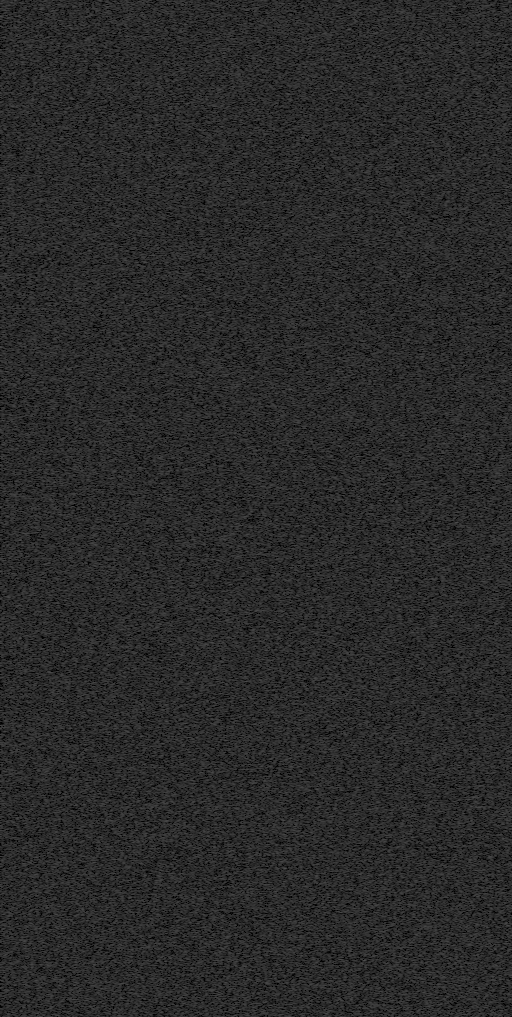wv_am: (329, 0, 335, 1016), (365, 0, 371, 403), (365, 672, 371, 977), (365, 404, 371, 670), (365, 978, 371, 1016)
wv_cw: (212, 0, 218, 1016)
wv_lsb: (204, 280, 209, 427), (96, 663, 101, 797), (204, 428, 209, 511), (204, 125, 209, 198), (204, 572, 209, 639), (204, 663, 209, 727), (204, 199, 209, 261), (204, 62, 209, 124), (206, 5, 211, 62), (204, 514, 209, 565), (206, 251, 211, 299), (206, 595, 211, 643), (96, 67, 101, 114), (206, 349, 211, 393), (206, 531, 211, 575), (206, 644, 211, 687), (205, 960, 209, 1013), (204, 759, 209, 800), (96, 585, 101, 624), (206, 791, 211, 829), (96, 625, 101, 662), (204, 803, 209, 840), (206, 214, 211, 250), (96, 5, 101, 40), (96, 127, 101, 159), (206, 936, 211, 968), (97, 167, 101, 206), (204, 728, 209, 758), (205, 848, 209, 884), (97, 207, 101, 243), (97, 826, 101, 861), (205, 902, 209, 935), (204, 37, 209, 61), (97, 798, 101, 825), (206, 502, 211, 523), (207, 77, 211, 102), (207, 310, 211, 334), (204, 939, 209, 957), (204, 5, 209, 23), (207, 412, 210, 440), (97, 933, 101, 954), (97, 877, 101, 897), (206, 396, 211, 411), (97, 48, 101, 66), (205, 262, 209, 279), (205, 646, 209, 662), (205, 885, 209, 901), (207, 830, 211, 846), (204, 24, 209, 36), (207, 441, 210, 460), (97, 918, 101, 932), (97, 320, 101, 334), (96, 115, 101, 126), (207, 335, 211, 348), (97, 480, 101, 493), (207, 130, 210, 147), (207, 63, 211, 75), (97, 864, 101, 876), (206, 300, 211, 309), (97, 403, 101, 414), (97, 999, 101, 1009), (97, 955, 101, 965), (207, 584, 211, 594), (206, 576, 211, 583), (97, 290, 100, 301), (97, 901, 101, 909), (206, 524, 211, 530), (97, 446, 101, 453), (97, 416, 101, 423), (207, 478, 210, 487), (207, 172, 210, 181), (207, 120, 210, 129), (207, 847, 210, 856), (207, 489, 211, 495), (207, 189, 210, 197), (97, 461, 100, 469), (205, 841, 209, 847), (97, 274, 101, 280), (97, 267, 101, 273), (97, 260, 101, 266), (97, 251, 101, 257), (97, 244, 101, 250), (97, 41, 101, 47), (207, 206, 210, 213), (207, 164, 210, 171), (205, 640, 209, 645), (205, 566, 209, 571), (97, 973, 101, 978), (97, 369, 101, 374), (97, 160, 101, 165), (207, 471, 210, 477), (207, 199, 210, 205), (207, 182, 210, 188), (207, 113, 210, 119), (97, 386, 100, 392), (207, 860, 210, 866), (97, 984, 101, 988), (97, 910, 101, 914), (97, 302, 101, 306), (207, 496, 210, 501), (97, 499, 100, 504), (97, 440, 100, 445), (97, 352, 100, 357), (207, 466, 210, 470), (207, 461, 210, 465), (207, 157, 210, 161), (207, 152, 210, 156), (207, 105, 210, 109), (97, 966, 101, 969), (97, 539, 100, 543), (97, 470, 101, 473), (97, 457, 101, 460), (97, 435, 100, 439), (97, 430, 100, 434), (97, 377, 101, 380), (97, 315, 100, 319), (97, 286, 101, 289), (97, 281, 101, 284), (207, 969, 210, 973), (207, 694, 210, 698), (97, 1010, 100, 1013), (97, 989, 100, 992), (207, 932, 210, 935), (207, 787, 210, 790), (207, 783, 210, 786), (207, 706, 210, 709)
